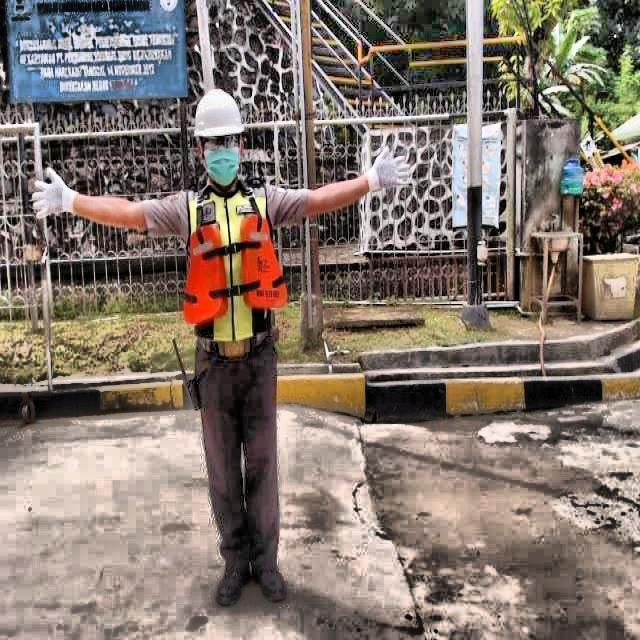safety_jacket: (186, 181, 287, 341)
